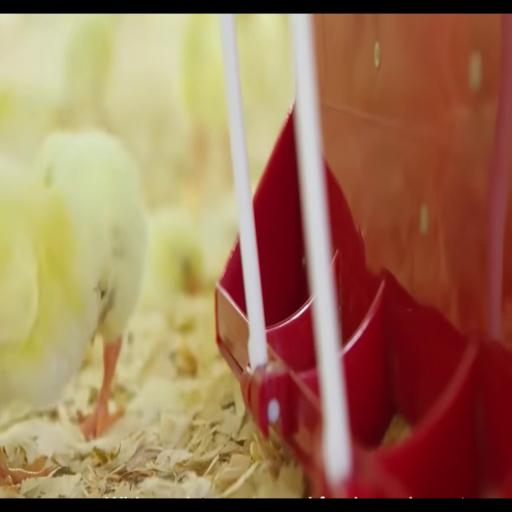chick: (34, 131, 147, 438), (0, 170, 104, 406)
